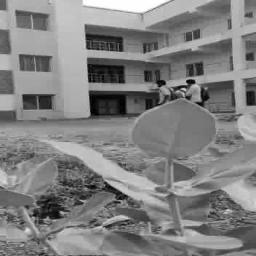Calotropis: (100, 100, 255, 256), (7, 142, 103, 256)
